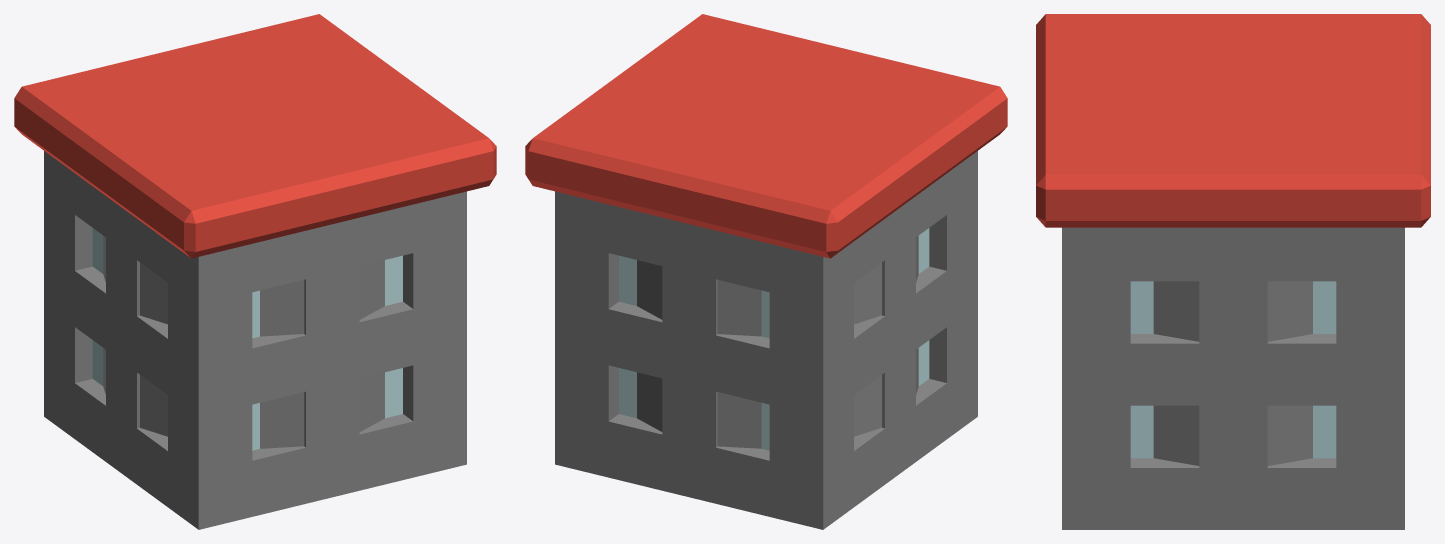
The model's file is building01.glb.
3 renders of one model, left to right at view 1: azimuth 30°, elevation 25°; view 2: azimuth 150°, elevation 25°; view 3: azimuth 270°, elevation 25°, orthographic. The views are drawn at different scales.
Visible parts, largest first — view 1: square_building, cylinder_building; view 2: square_building, cylinder_building; view 3: square_building, cylinder_building.
Boxes of the visible parts, bbox=[...] form: square_building: bbox=[14, 14, 496, 529]; cylinder_building: bbox=[103, 236, 384, 448]; square_building: bbox=[525, 14, 1007, 529]; cylinder_building: bbox=[637, 236, 918, 448]; square_building: bbox=[1036, 14, 1430, 529]; cylinder_building: bbox=[1153, 281, 1312, 465].
Size of the model in its own units: 9.32 by 9.35 by 9.2.
